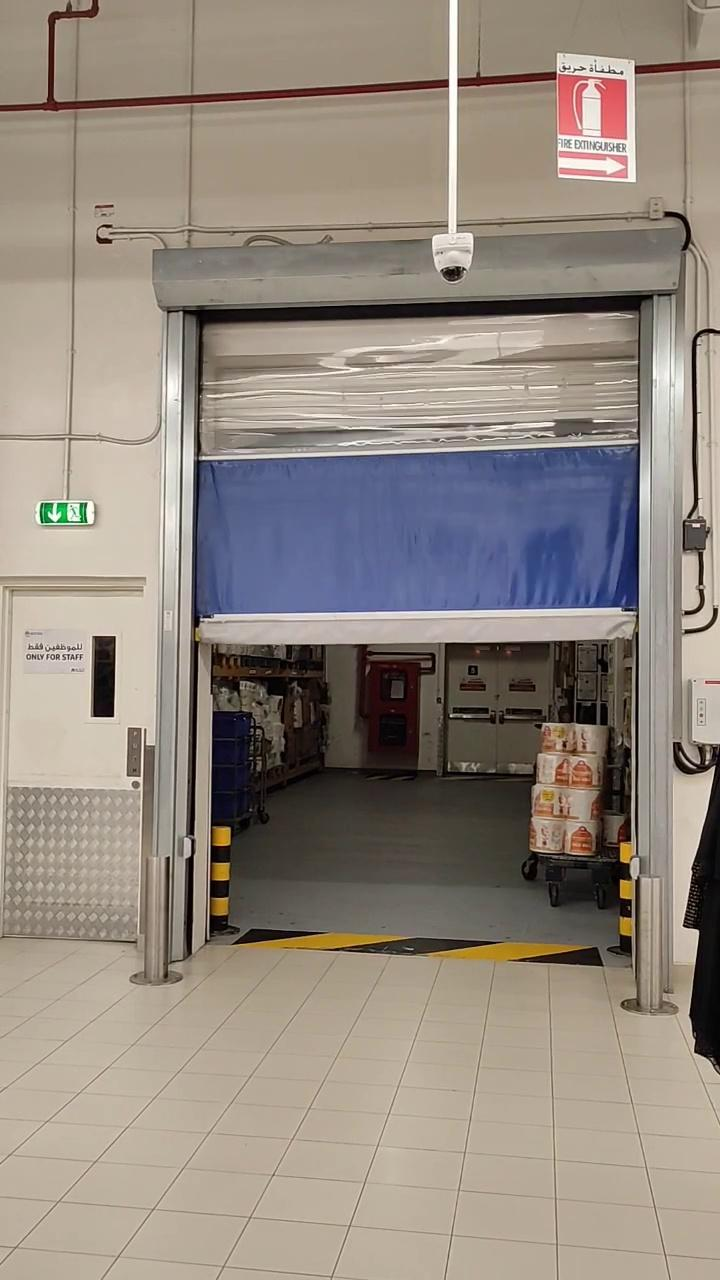Strip: (236, 923, 605, 967)
